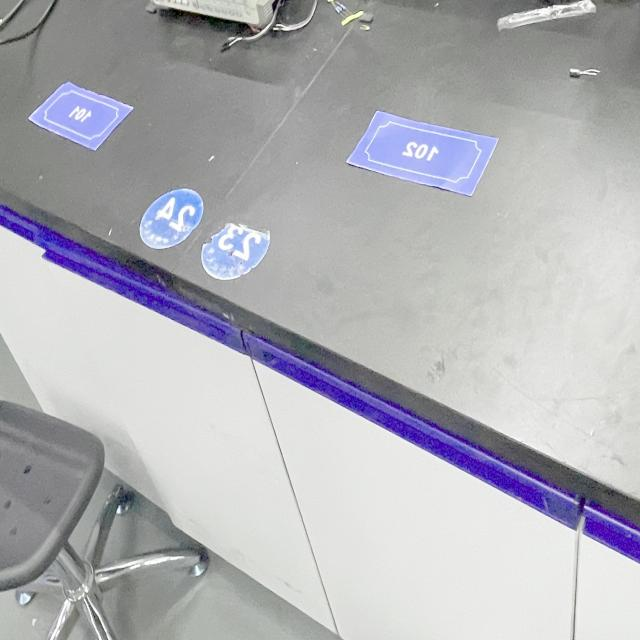Card: (342, 101, 508, 212)
